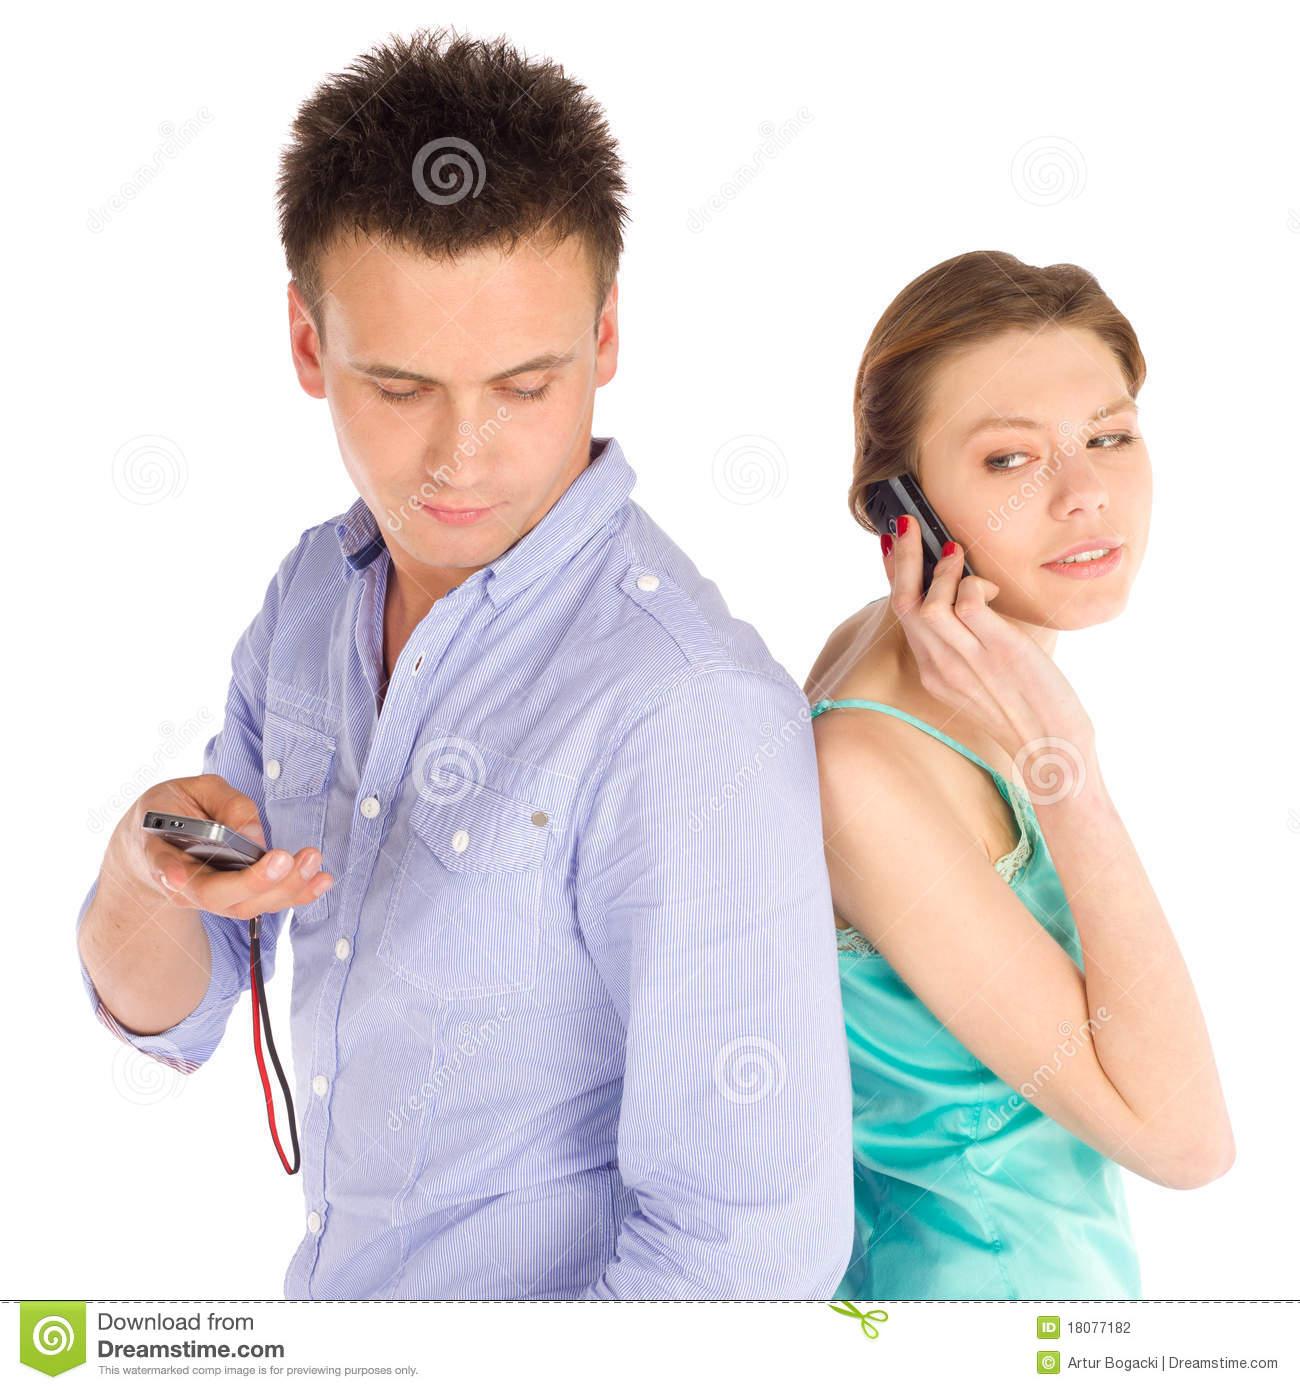phone: (863, 471, 971, 608), (132, 799, 276, 879)
talk: (849, 387, 1152, 770)
